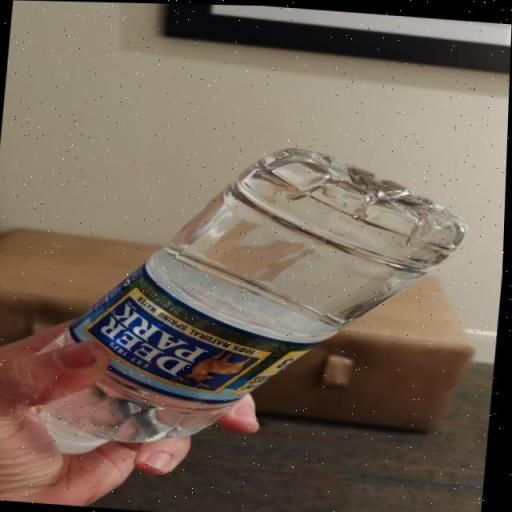plastic: (39, 147, 470, 456)
